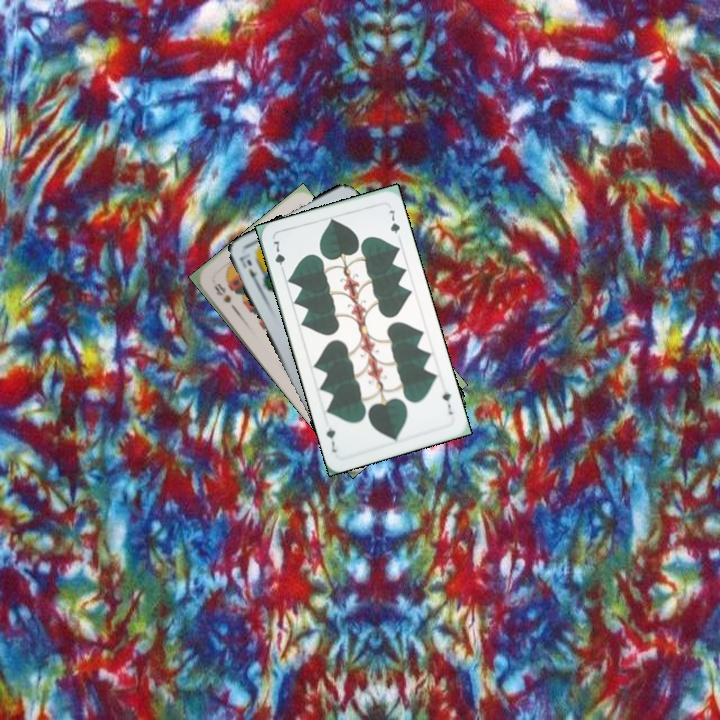EK: (235, 251, 263, 290)
G7: (267, 237, 288, 276), (438, 387, 455, 417)
S8: (210, 279, 234, 306)
